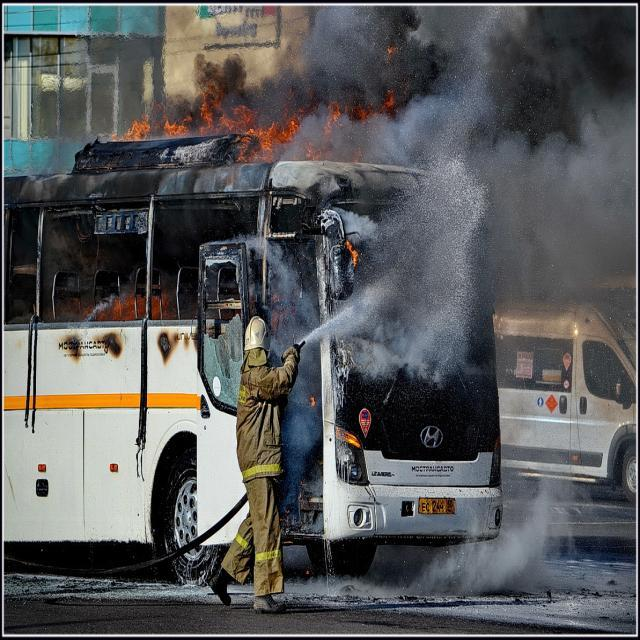Fire: (116, 92, 392, 162), (93, 284, 166, 322), (347, 238, 360, 266)
Smoke: (178, 4, 640, 390), (414, 459, 576, 596)
